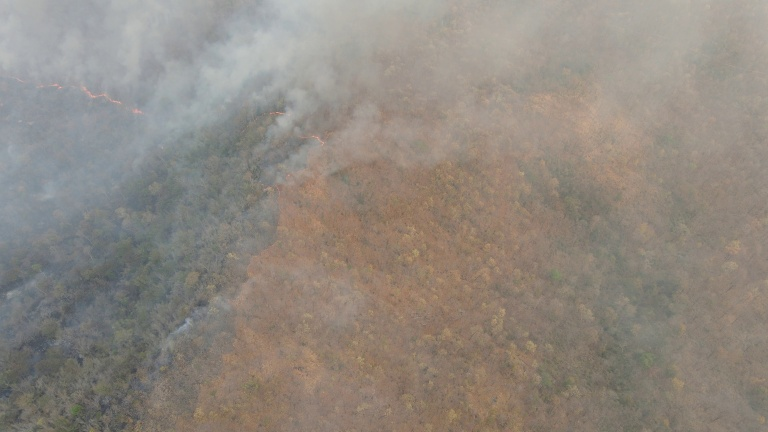fire: (3, 73, 152, 122), (259, 109, 327, 147), (271, 165, 303, 203)
smoke: (7, 1, 336, 201), (151, 307, 208, 368)
